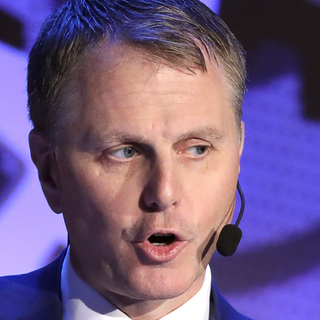eye: (104, 140, 151, 164), (175, 138, 220, 162)
